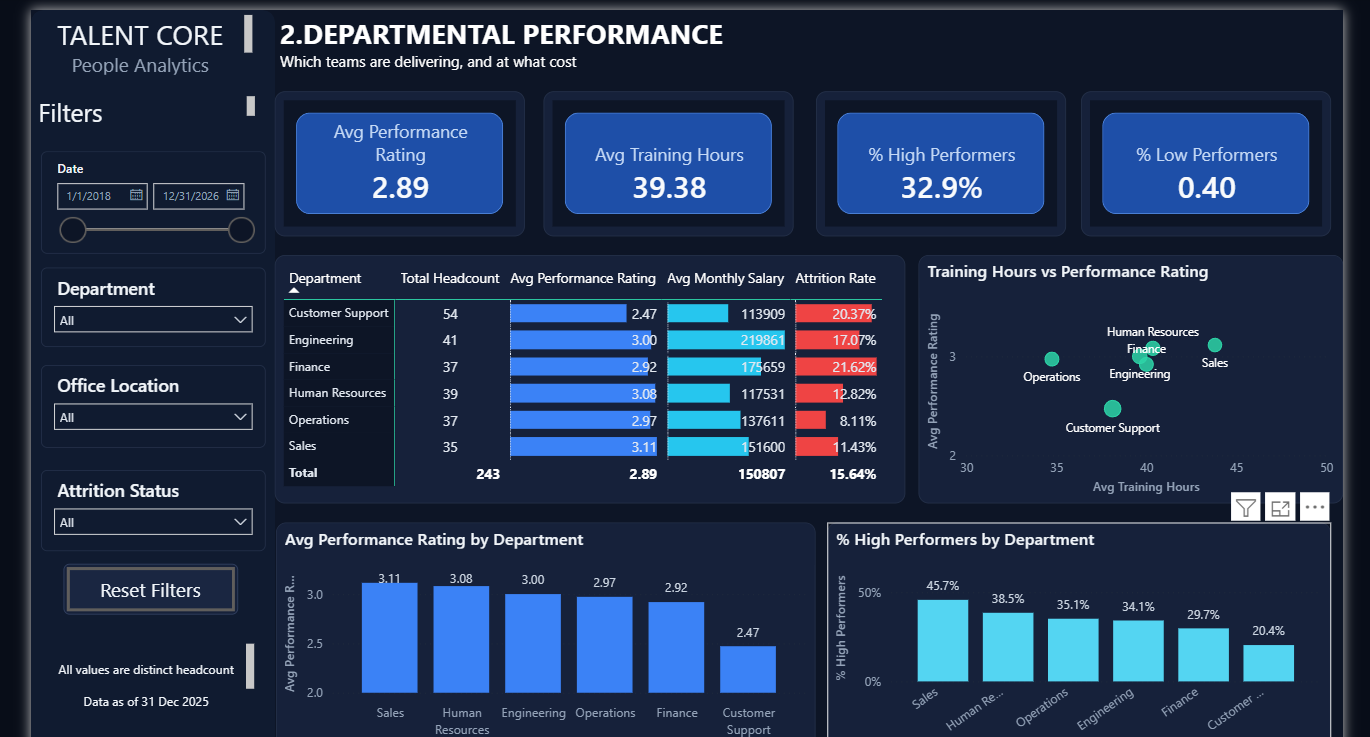

The dashboard page shown, as its layout file describes it:
{"tool":"powerbi","page":{"name":"Departmental Performance","canvas":[1280,720],"ordinal":1},"visuals":[{"type":"shape","box":[0,0,238.1,720],"z":0},{"type":"textbox","box":[0,0,221.1,68.4],"z":1000},{"type":"textbox","box":[1.9,79.4,221.1,45.4],"z":2000},{"type":"slicer","fields":{"Values":["Date Table.Date"]},"box":[9.5,138.4,219.5,100.2],"z":3000},{"type":"slicer","fields":{"Values":["TalentCore_HR_Workforce_Data.Department"]},"box":[9.5,251.3,219.5,77.9],"z":4000},{"type":"slicer","fields":{"Values":["TalentCore_HR_Workforce_Data.Office Location"]},"box":[9.5,346.8,219.5,81.1],"z":5000},{"type":"slicer","fields":{"Values":["TalentCore_HR_Workforce_Data.Attrition Status"]},"box":[9.5,448.6,219.5,79.5],"z":6000},{"type":"actionButton","box":[31.8,540.8,170.2,49.3],"z":7000},{"type":"textbox","box":[9.5,614,213.1,74.8],"z":8000},{"type":"cardVisual","fields":{"Data":["TalentCore_HR_Workforce_Data.Avg Performance Rating"]},"box":[237.5,79.2,244.1,141.9],"z":9000},{"type":"cardVisual","fields":{"Data":["TalentCore_HR_Workforce_Data.Avg Training Hours"]},"box":[499.8,79.2,244.1,141.9],"z":10000},{"type":"cardVisual","fields":{"Data":["TalentCore_HR_Workforce_Data.% High Performers"]},"box":[765.4,79.2,244.1,141.9],"z":11000},{"type":"cardVisual","fields":{"Data":["TalentCore_HR_Workforce_Data.% Low Performers"]},"box":[1024.3,79.2,244.1,141.9],"z":12000},{"type":"pivotTable","fields":{"Rows":["TalentCore_HR_Workforce_Data.Department"],"Values":["TalentCore_HR_Workforce_Data.Total Headcount","TalentCore_HR_Workforce_Data.Avg Performance Rating","TalentCore_HR_Workforce_Data.Avg Monthly Salary","TalentCore_HR_Workforce_Data.Attrition Rate"]},"box":[237.5,239.2,615.3,242.5],"z":13000},{"type":"scatterChart","title":"Training Hours vs Performance Rating","fields":{"X":["TalentCore_HR_Workforce_Data.Avg Training Hours"],"Y":["TalentCore_HR_Workforce_Data.Avg Performance Rating"],"Size":["TalentCore_HR_Workforce_Data.Total Headcount"],"Category":["TalentCore_HR_Workforce_Data.Department"],"Series":["TalentCore_HR_Workforce_Data.Department"]},"box":[866,239.2,414,242.5],"z":14000},{"type":"clusteredColumnChart","fields":{"Category":["TalentCore_HR_Workforce_Data.Department"],"Y":["TalentCore_HR_Workforce_Data.Avg Performance Rating"]},"box":[238.6,499.5,526.5,221.1],"z":15000},{"type":"clusteredColumnChart","fields":{"Y":["TalentCore_HR_Workforce_Data.% High Performers"],"Category":["TalentCore_HR_Workforce_Data.Department"]},"box":[776.9,499.8,491.5,221],"z":16000},{"type":"textbox","box":[237.5,0,1030.9,79.2],"z":17000}]}

Visuals, with their boxes on the page's 1280x720 design canvas (x1, y1, x2, y2). These are canvas units, not pixel positions in the 1370x737 screenshot, which may show the page scaled, cropped or inside an application window:
shape: x1=0, y1=0, x2=238, y2=720
textbox: x1=0, y1=0, x2=221, y2=68
textbox: x1=2, y1=79, x2=223, y2=125
slicer - Date Table.Date: x1=10, y1=138, x2=229, y2=239
slicer - TalentCore_HR_Workforce_Data.Department: x1=10, y1=251, x2=229, y2=329
slicer - TalentCore_HR_Workforce_Data.Office Location: x1=10, y1=347, x2=229, y2=428
slicer - TalentCore_HR_Workforce_Data.Attrition Status: x1=10, y1=449, x2=229, y2=528
actionButton: x1=32, y1=541, x2=202, y2=590
textbox: x1=10, y1=614, x2=223, y2=689
cardVisual - TalentCore_HR_Workforce_Data.Avg Performance Rating: x1=238, y1=79, x2=482, y2=221
cardVisual - TalentCore_HR_Workforce_Data.Avg Training Hours: x1=500, y1=79, x2=744, y2=221
cardVisual - TalentCore_HR_Workforce_Data.% High Performers: x1=765, y1=79, x2=1010, y2=221
cardVisual - TalentCore_HR_Workforce_Data.% Low Performers: x1=1024, y1=79, x2=1268, y2=221
pivotTable - TalentCore_HR_Workforce_Data.Department x TalentCore_HR_Workforce_Data.Total Headcount: x1=238, y1=239, x2=853, y2=482
"Training Hours vs Performance Rating" scatterChart: x1=866, y1=239, x2=1280, y2=482
clusteredColumnChart - TalentCore_HR_Workforce_Data.Department x TalentCore_HR_Workforce_Data.Avg Performance Rating: x1=239, y1=500, x2=765, y2=721
clusteredColumnChart - TalentCore_HR_Workforce_Data.% High Performers x TalentCore_HR_Workforce_Data.Department: x1=777, y1=500, x2=1268, y2=721
textbox: x1=238, y1=0, x2=1268, y2=79
